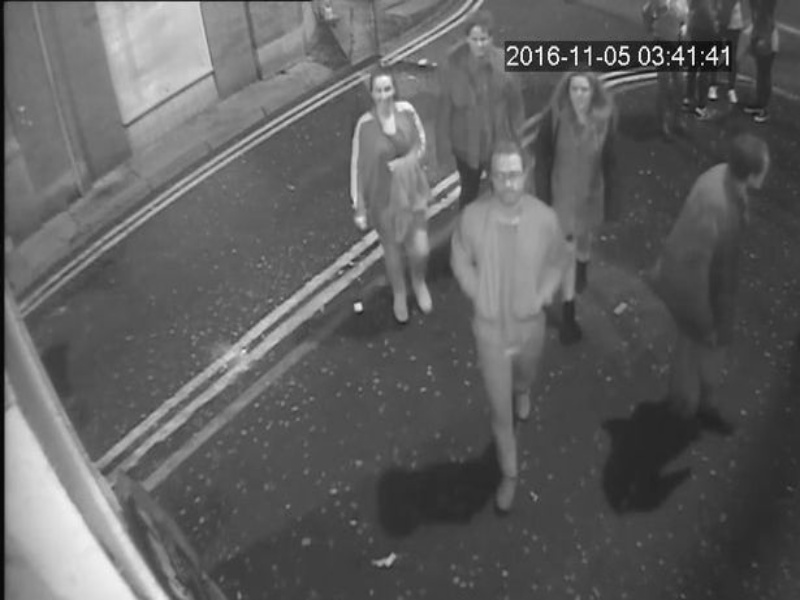person: (444, 142, 582, 516), (638, 128, 782, 439), (343, 66, 442, 334), (529, 60, 621, 341), (438, 9, 532, 223)
